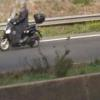Motorcycle: (2, 2, 46, 57)
